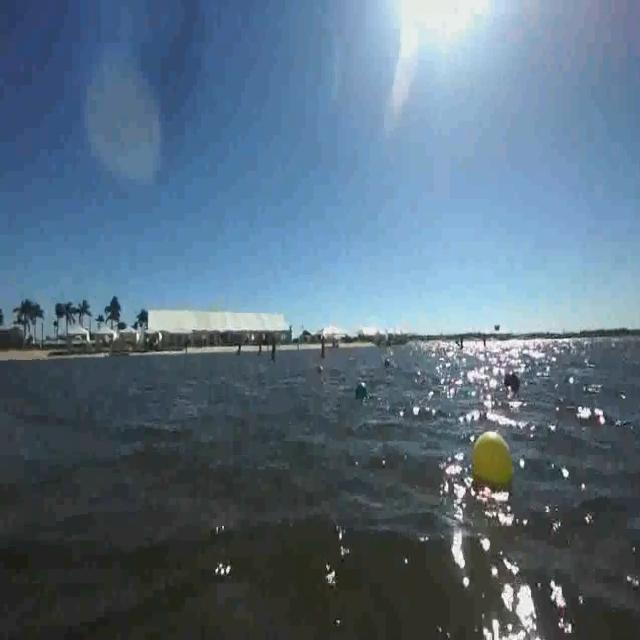yellow-buoy: (469, 431, 514, 494)
